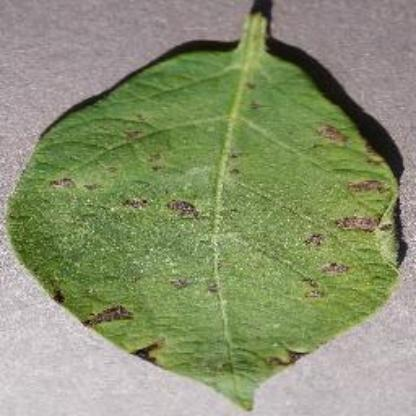Early-Blight: (7, 13, 403, 409)
